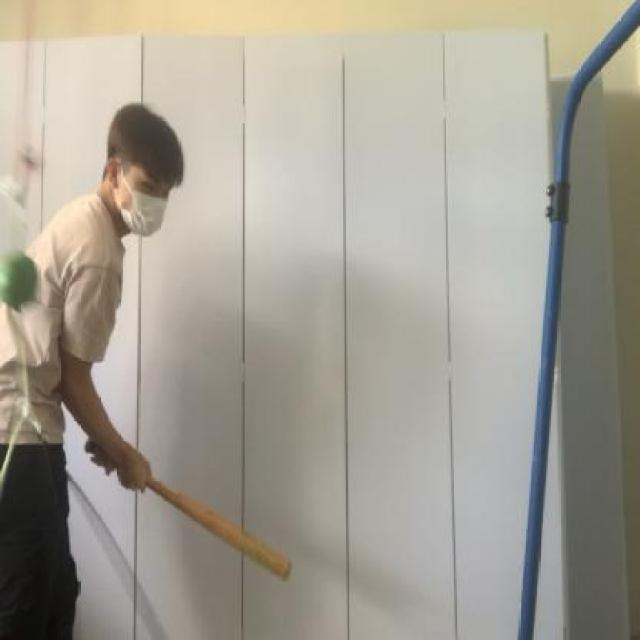baseball: (0, 251, 38, 311)
